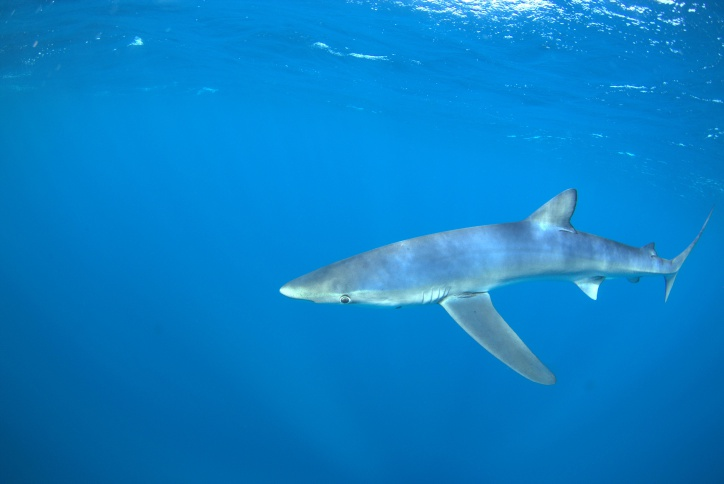Azul: (271, 171, 712, 397)
